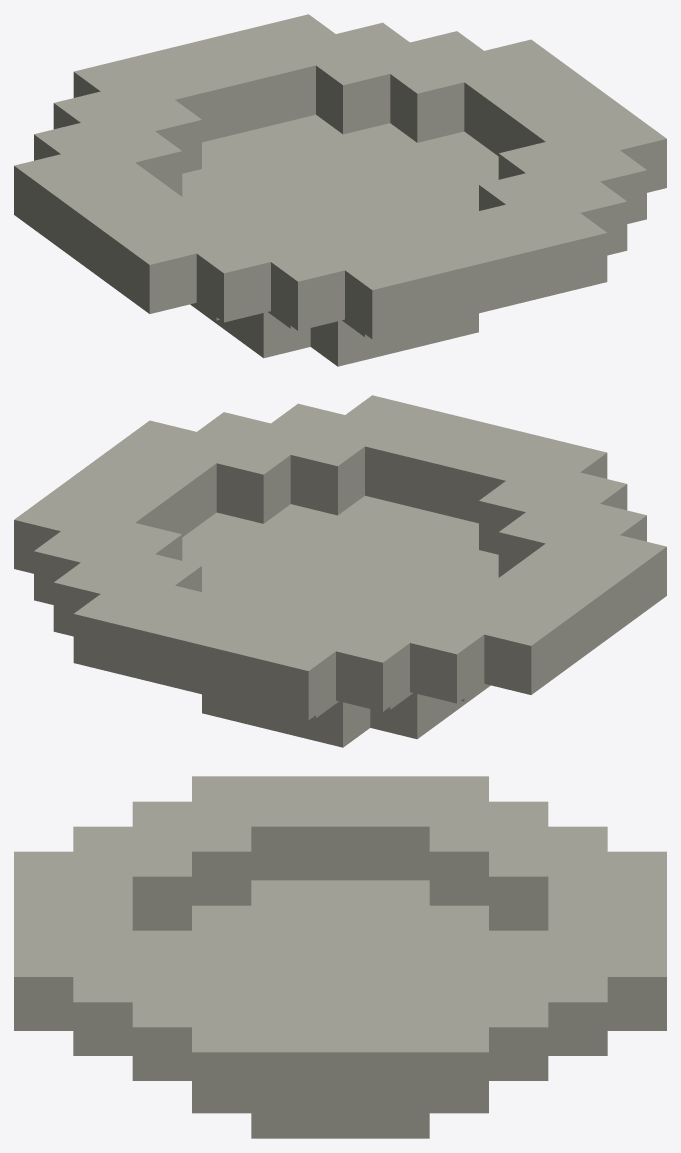
The model's file is talerz.dae.
3 renders of one model, top to bottom at view 1: azimuth 30°, elevation 25°; view 2: azimuth 150°, elevation 25°; view 3: azimuth 270°, elevation 25°, orthographic. The views are drawn at different scales.
Visible parts, largest first — view 1: Content; view 2: Content; view 3: Content.
Part boxes in pixels (x1,y1,x2,y2): Content: (14, 14, 666, 366); Content: (14, 395, 666, 747); Content: (14, 776, 666, 1138).
Bounding box in the file's own units: 22 × 6 × 22.
Materials: 1 (1 with a texture image).
